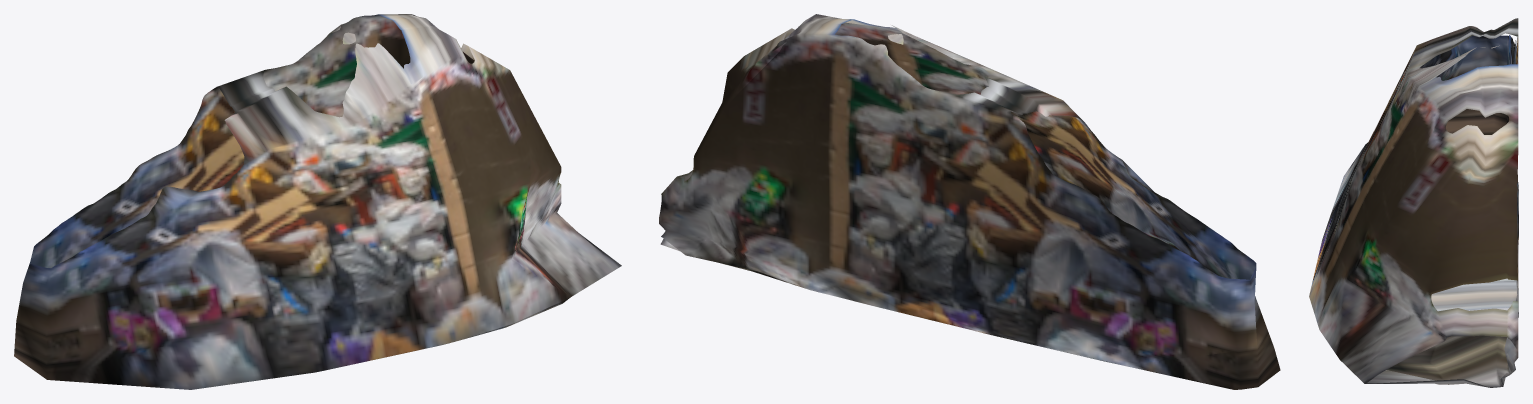
The model's file is alley_garbage_pile.FBX.
3 renders of one model, left to right at view 1: azimuth 30°, elevation 25°; view 2: azimuth 150°, elevation 25°; view 3: azimuth 270°, elevation 25°, orthographic. The views are drawn at different scales.
Visible parts, largest first — view 1: alley_garbage_pile; view 2: alley_garbage_pile; view 3: alley_garbage_pile.
Boxes of the visible parts, bbox=[...] form: alley_garbage_pile: bbox=[14, 14, 621, 389]; alley_garbage_pile: bbox=[659, 14, 1280, 389]; alley_garbage_pile: bbox=[1309, 18, 1518, 387].
Bounding box in the file's own units: 187 × 83.83 × 61.47.
